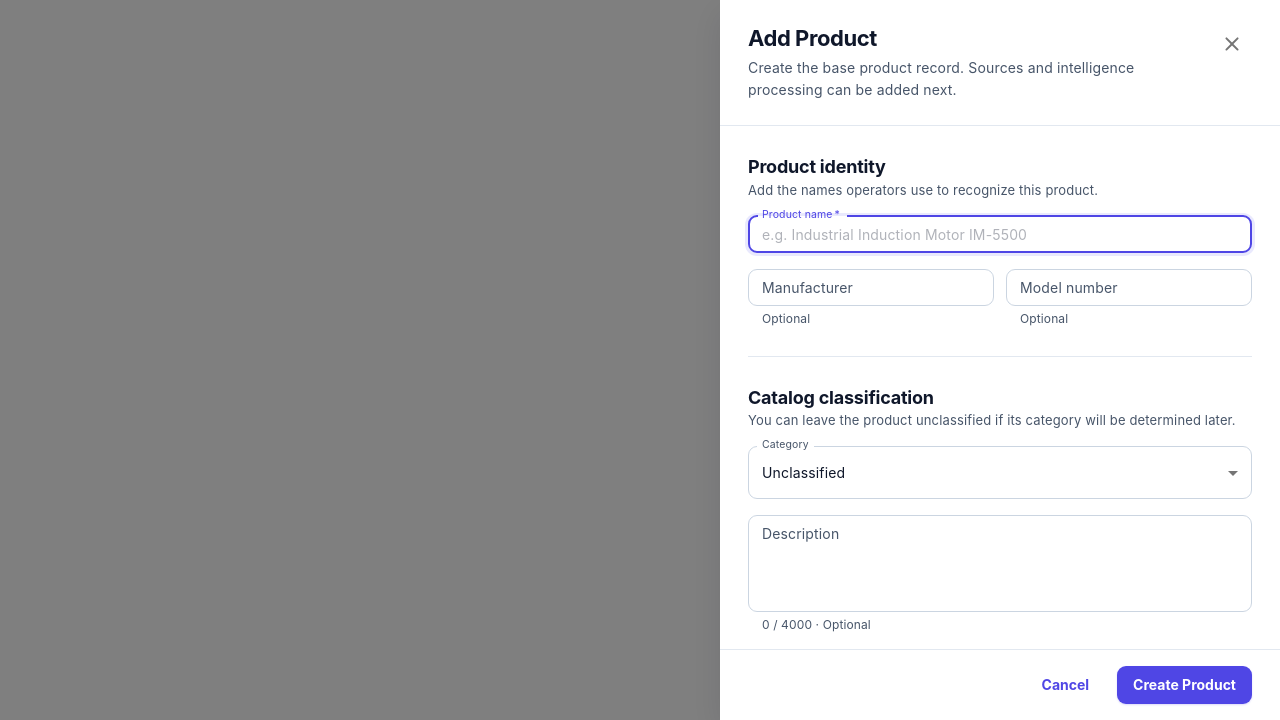
Scenario: Product creation drawer › is accessible and rejects an empty required name
Expected: the heading "Add Product" is shown, [748,25,877,51]
Click the button "Create Product" at (1185, 685), box [1117,666,1252,704]
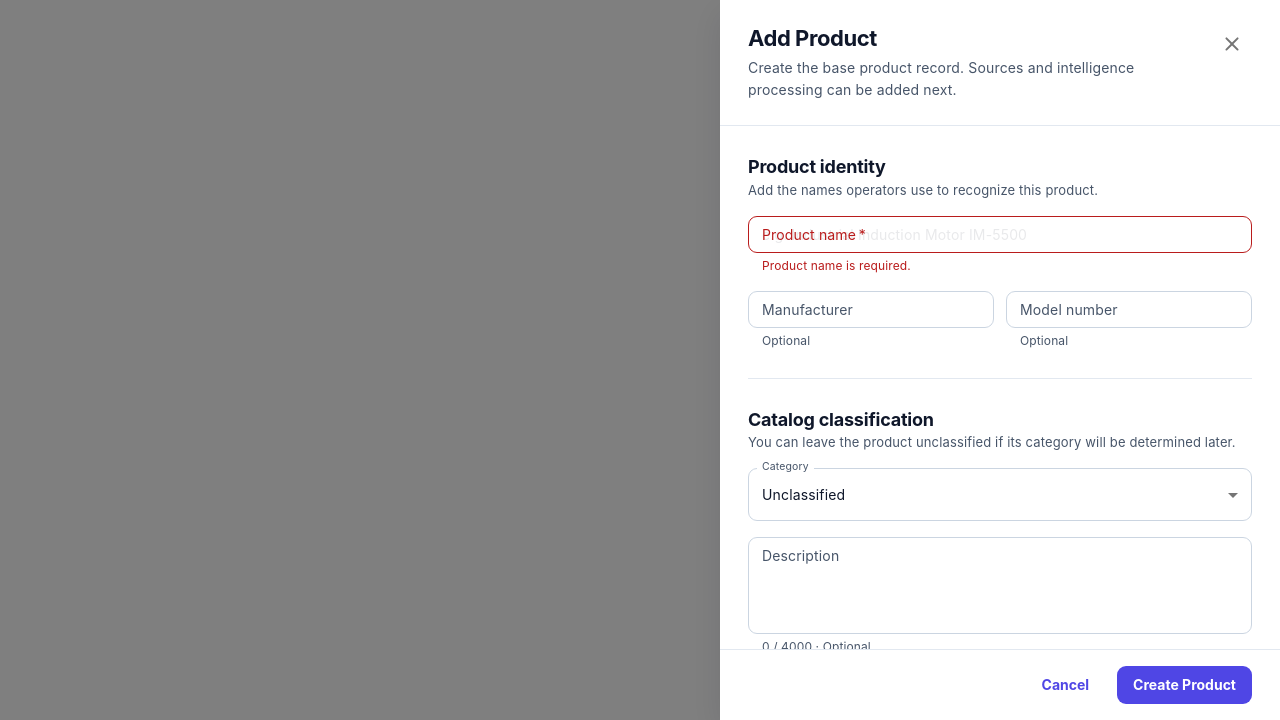
Expected: the text "Product name is required." is shown, [762,258,911,273]
